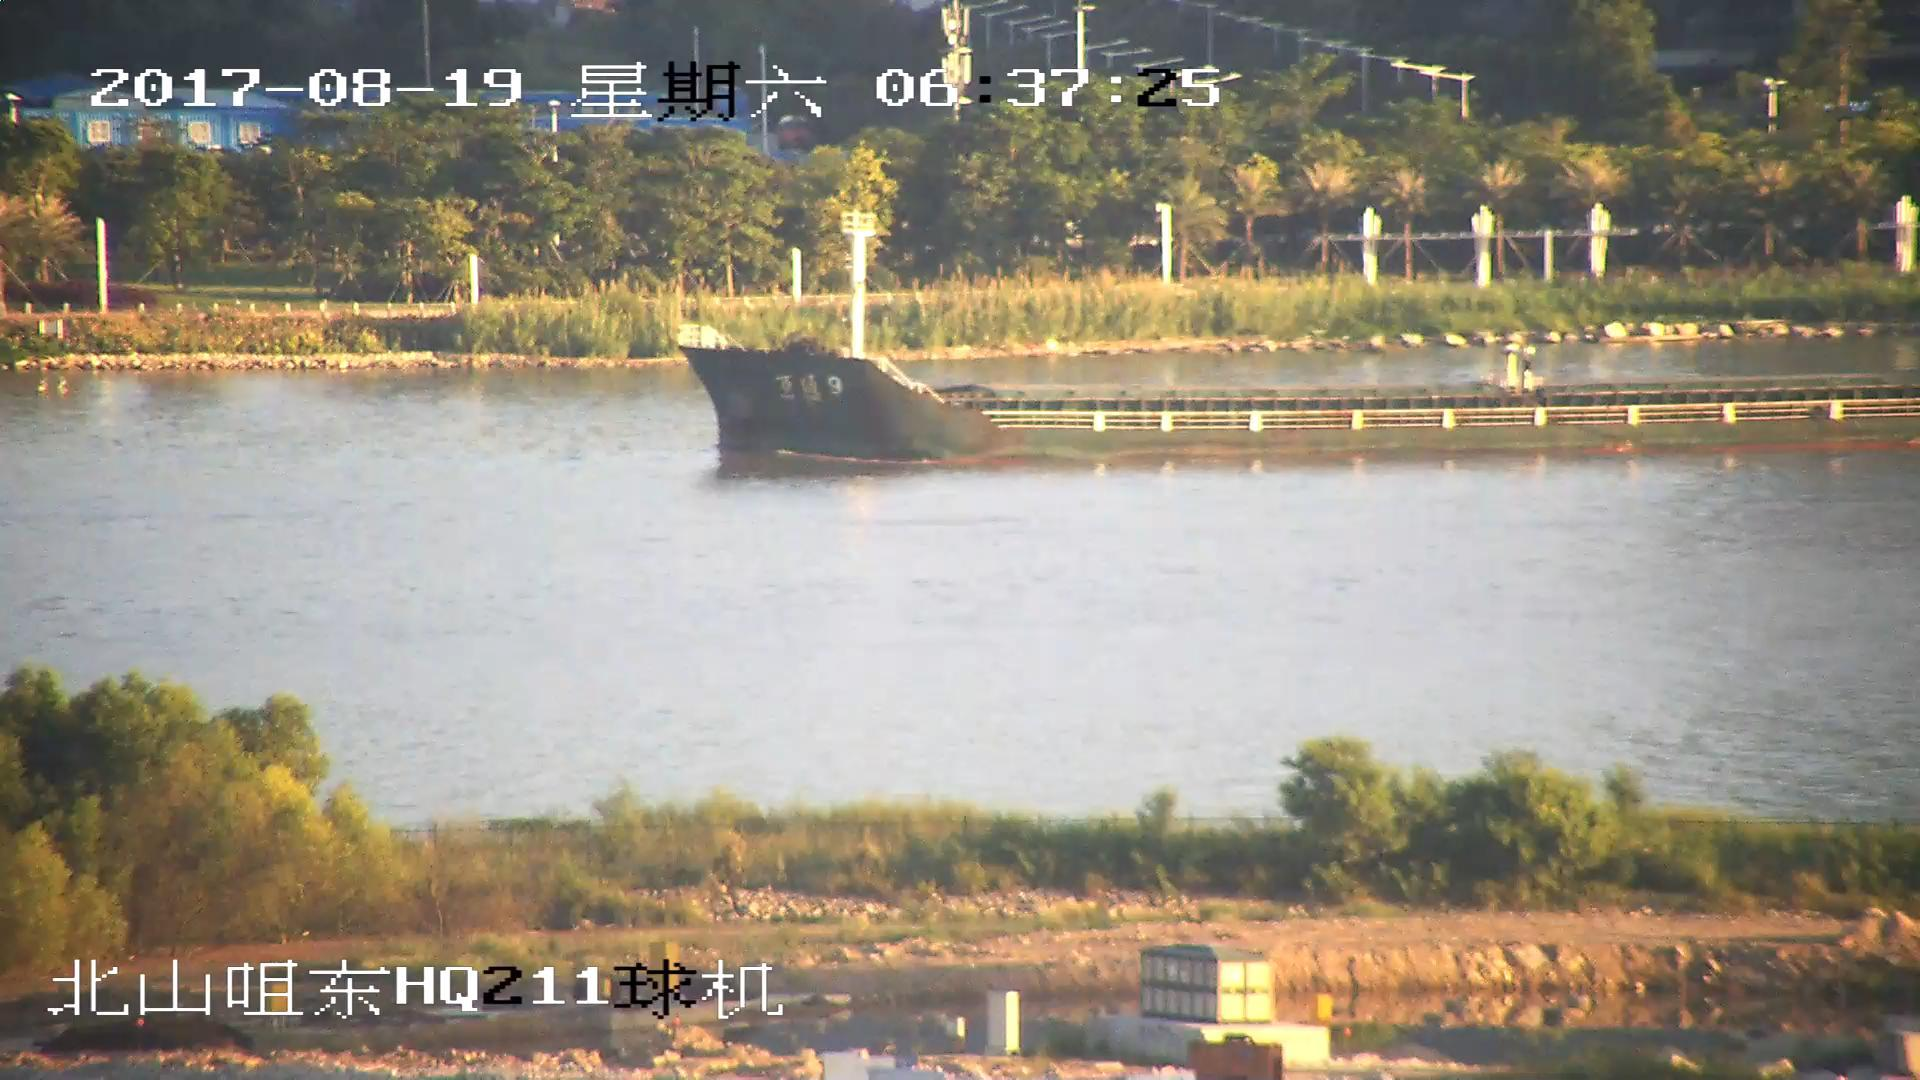Ship: (673, 222, 1920, 455)
